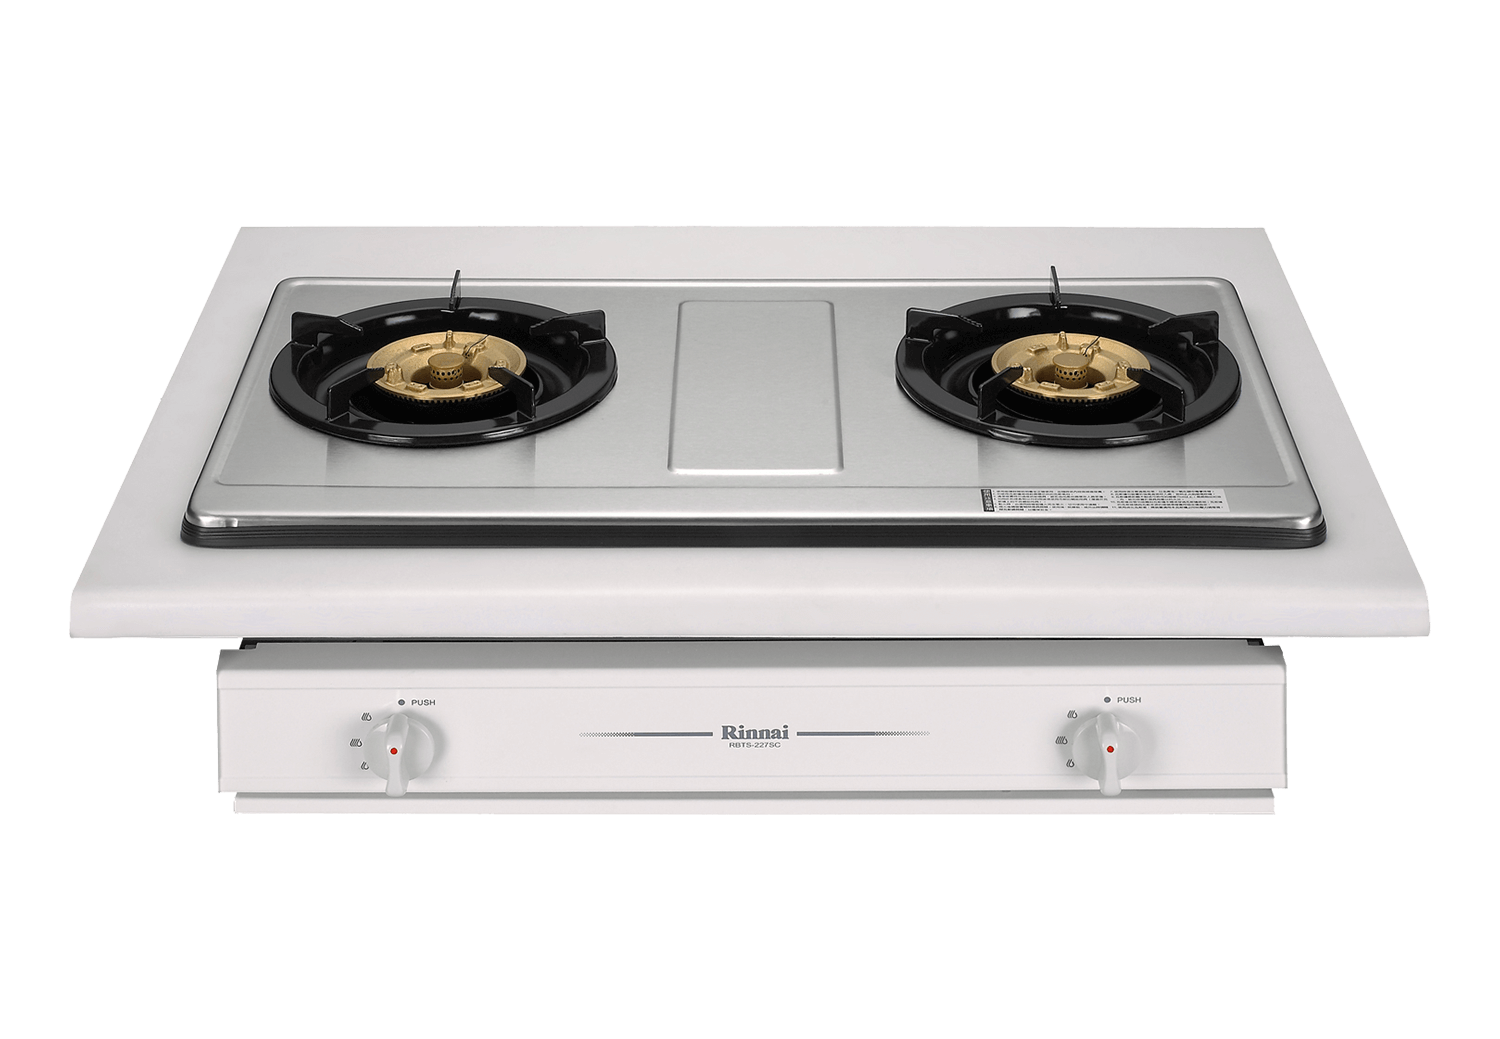gasoven: (60, 215, 1440, 831)
